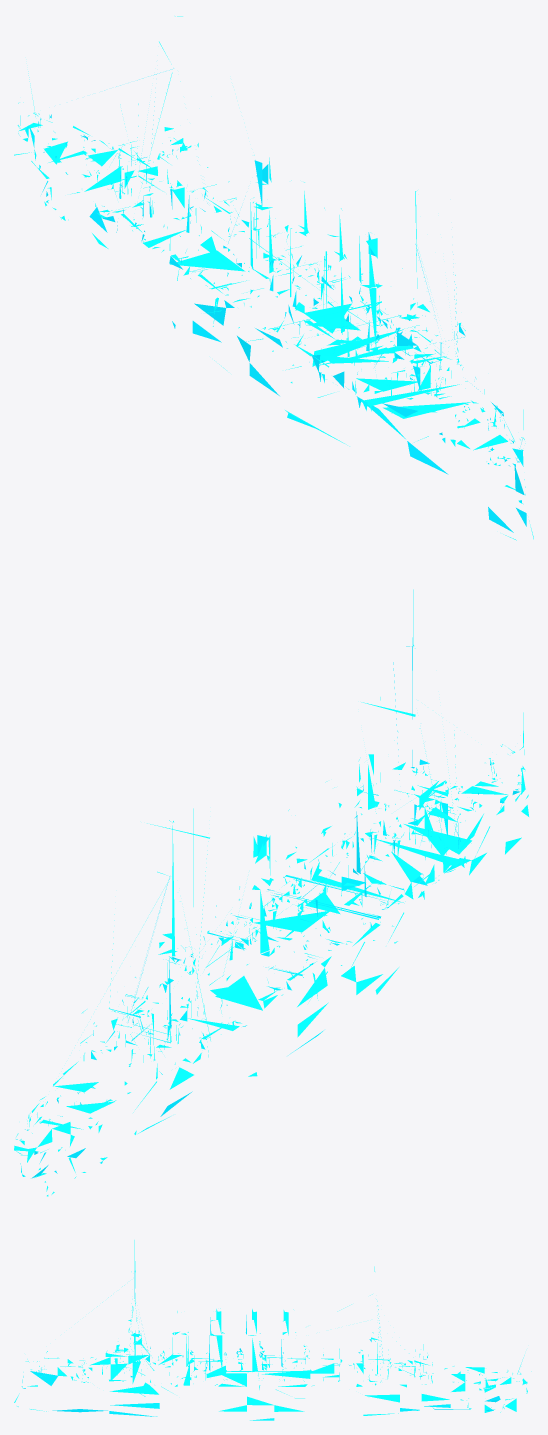
The model's file is Varyag.glb.
3 views of the same model, one above another, from view 1: azimuth 30°, elevation 25°; view 2: azimuth 150°, elevation 25°; view 3: azimuth 270°, elevation 25° (orthographic). The views are drawn at different scales.
Bounding box in the file's own units: 1.14 × 3.32 × 8.73.
